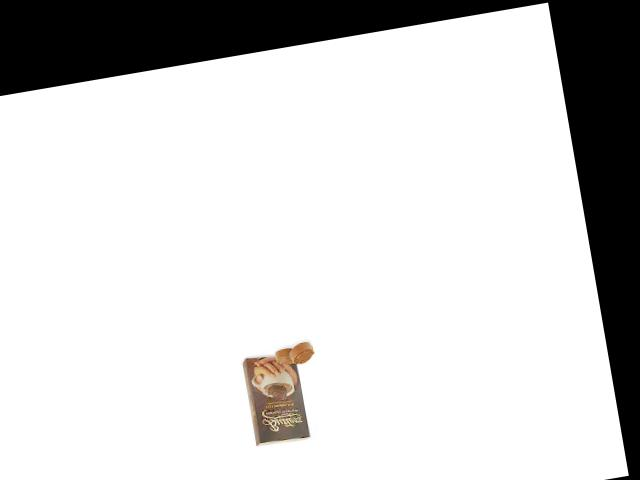chocolate: (237, 346, 318, 451)
